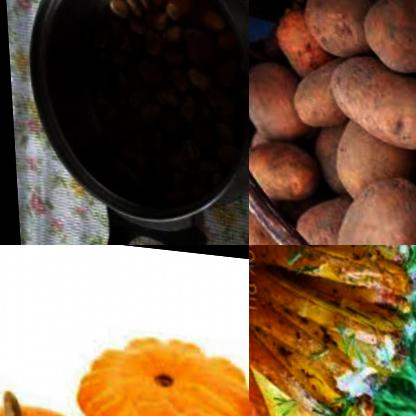beans: (76, 0, 244, 201)
potato: (249, 245, 416, 416), (317, 45, 416, 142), (325, 149, 416, 245), (328, 103, 409, 202), (282, 44, 353, 132), (249, 126, 314, 212), (249, 52, 307, 145), (260, 0, 327, 77), (280, 173, 351, 245), (352, 0, 416, 77), (296, 0, 371, 58)
squash-patisson: (61, 297, 249, 416)
